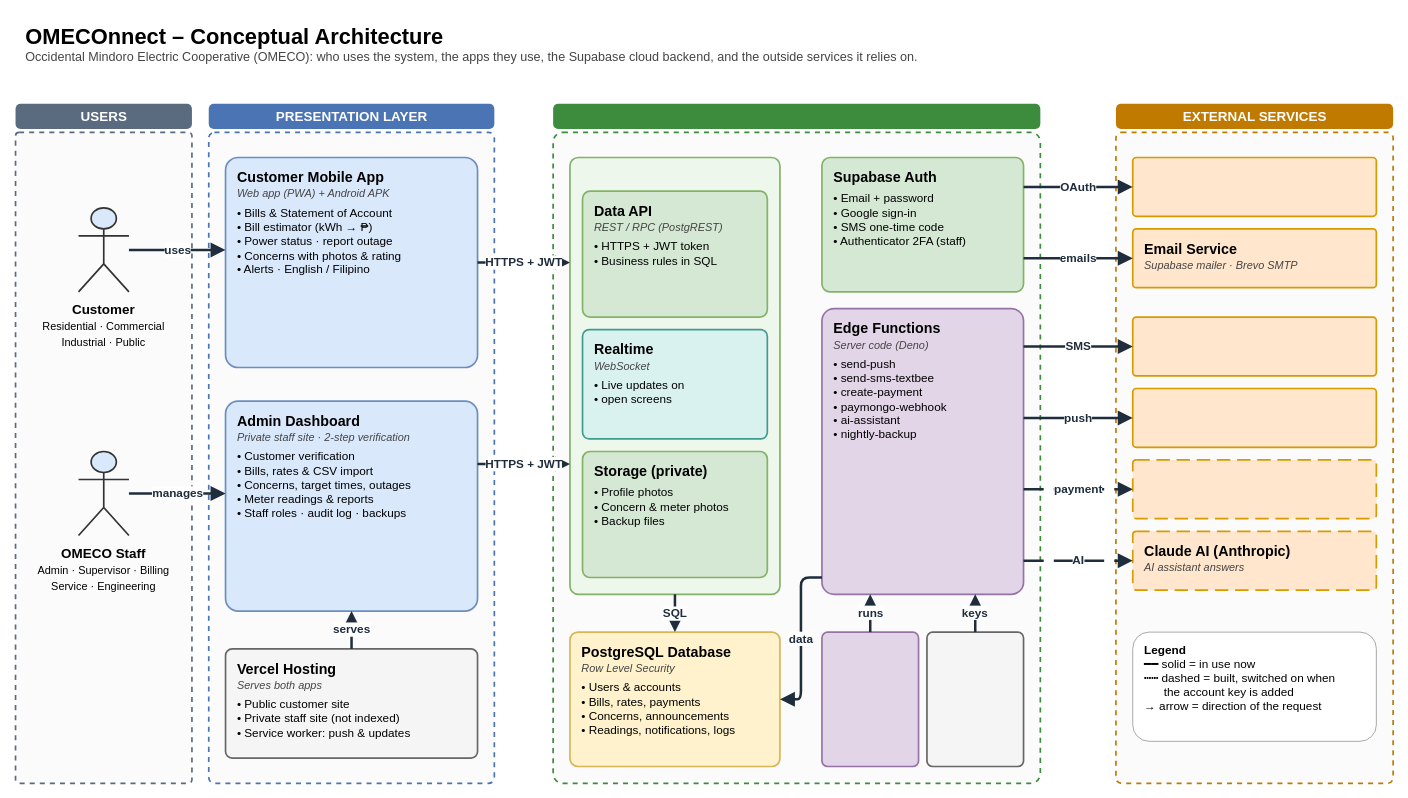
Some shapes in this 1408 by 798 pixel diagram are drawn without their labels. Here are the shapes that lost their labels. From the top down, the box of each, then its label:
(553, 103, 1040, 129): BACKEND – SUPABASE CLOUD
(1131, 156, 1377, 217): Google Sign-In OAuth 2.0
(1131, 316, 1377, 376): textbee SMS Gateway Android phone + PH SIM
(569, 156, 780, 595): Supabase Access Layer
(1131, 387, 1377, 448): Web Push Service Pop-up alerts on phones
(1131, 459, 1377, 519): PayMongo GCash · Maya · cards
(821, 631, 919, 767): Scheduled Jobs pg_cron • 8 AM bill • reminders • 2 AM backup
(926, 631, 1024, 767): Vault secrets • Push keys • API keys
